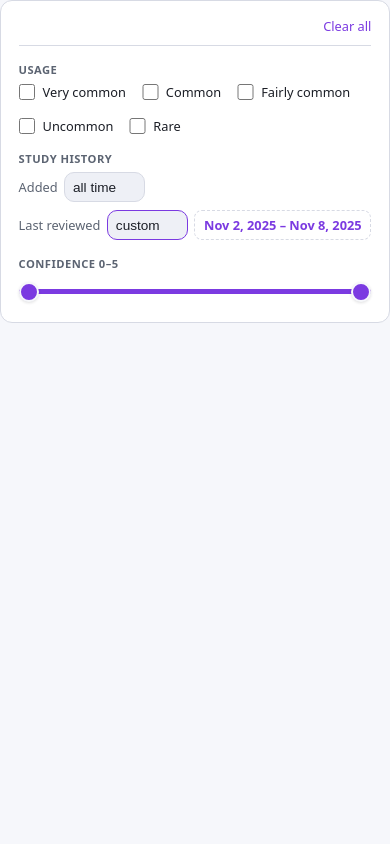
the date axes — dropdown + custom calendar › opens ON the selected span, not on today's month
Click the button with aria-label "Last reviewed: edit custom range" at (283, 225), box left=194, top=210, right=372, bottom=240
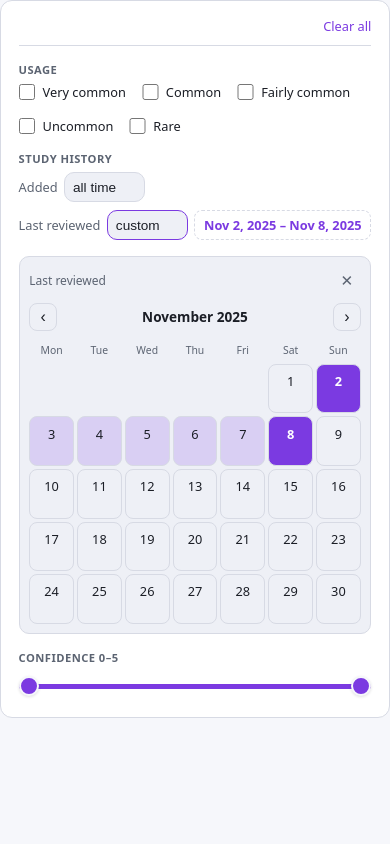
Now the text "November 2025" is shown, box left=142, top=307, right=248, bottom=326
